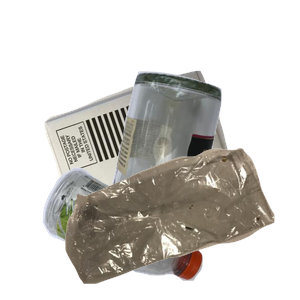glass: (109, 69, 300, 249)
paper: (42, 68, 275, 248)
plastic: (40, 165, 235, 300)
trash: (63, 145, 300, 300)
